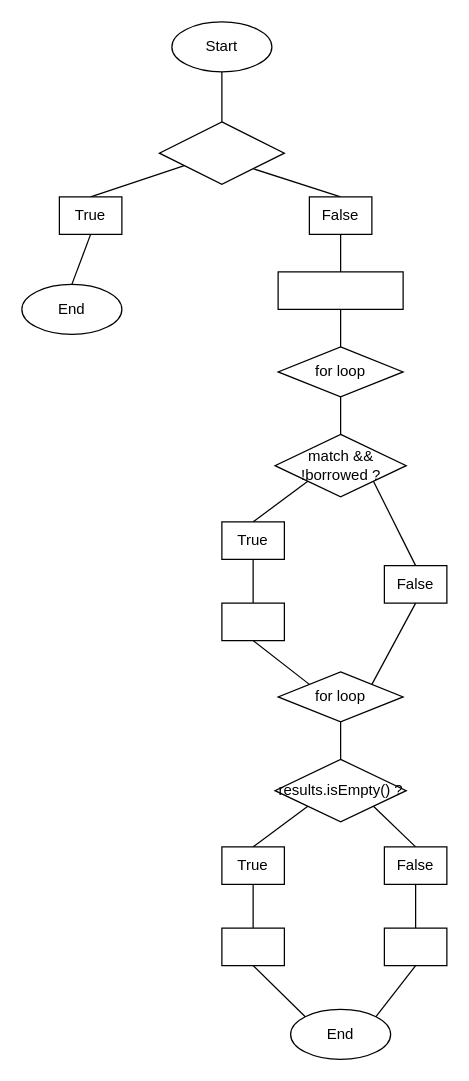
This 469x1081 diagram has some shape labels left out. The shapes that lost their labels are listed below. From the top down, each one's centre as x and y in pixels, then its label:
At (x=221, y=152): "title.isEmpty() ?".
At (x=340, y=290): "Exception results = new ArrayList".
At (x=252, y=621): "add book".
At (x=252, y=946): "return null".
At (x=415, y=946): "return results".
